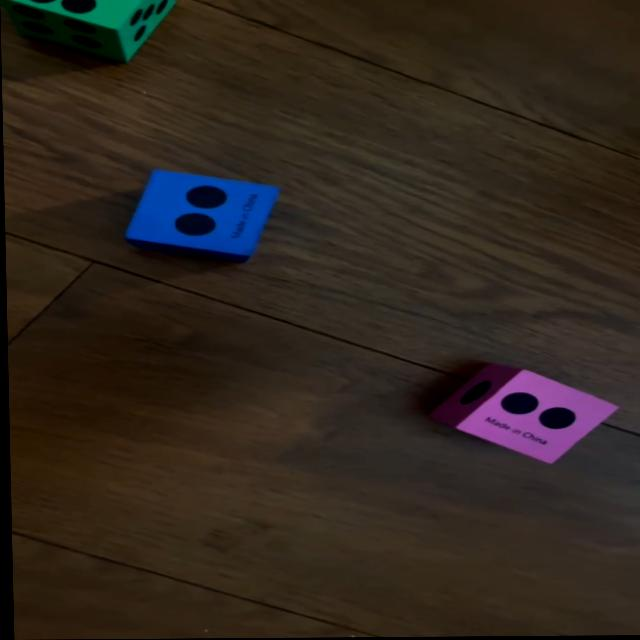blue_block: (126, 170, 279, 265)
